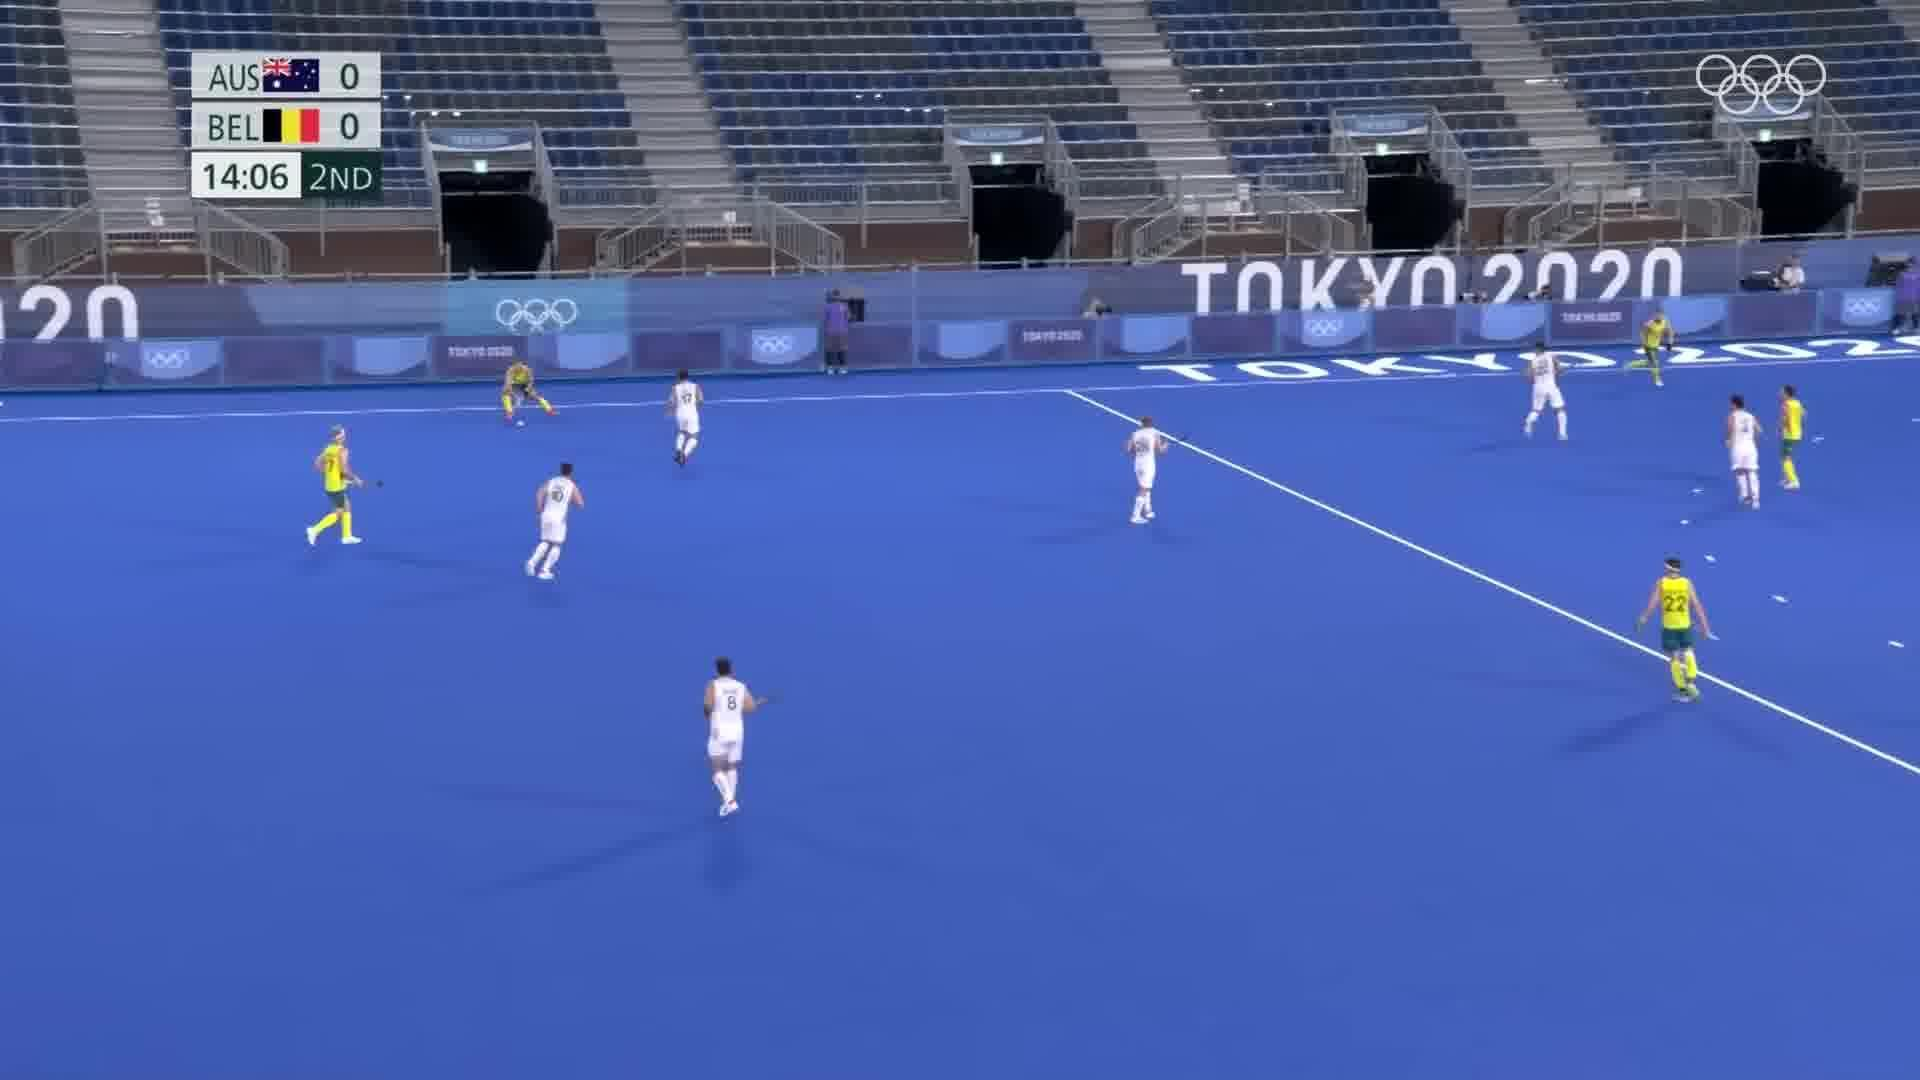ball: (512, 419, 527, 431)
